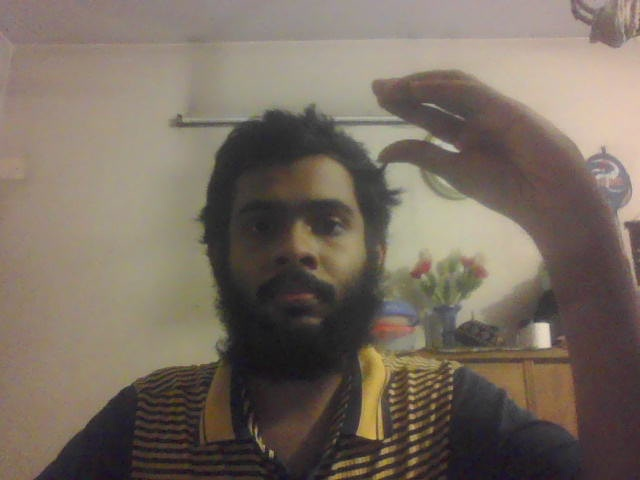No: (370, 69, 603, 211)
